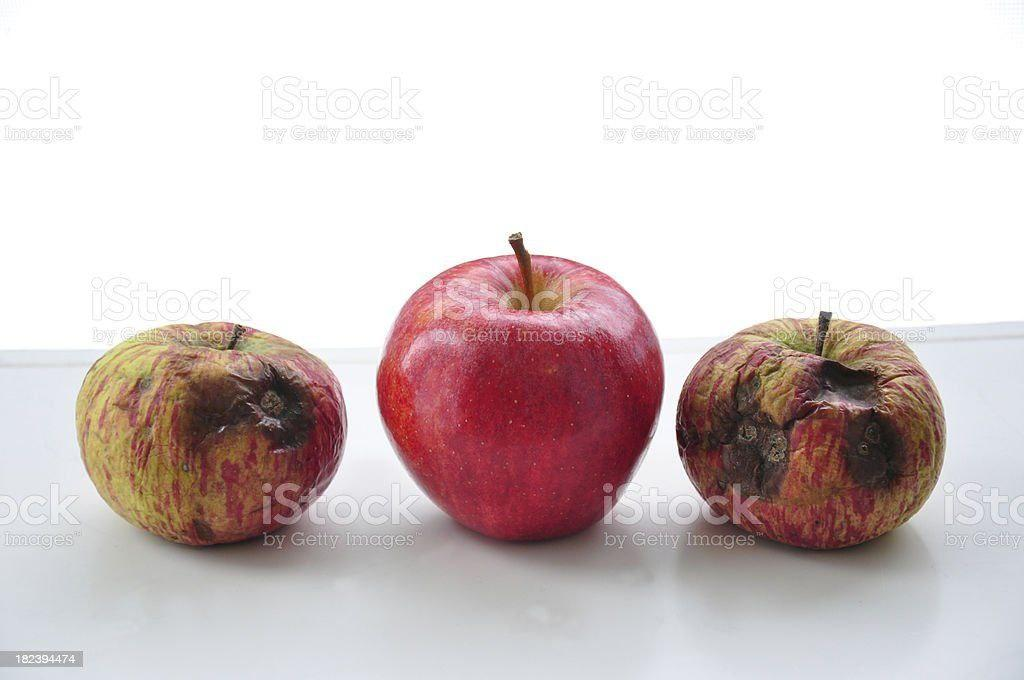Apple: (376, 255, 664, 546), (674, 316, 946, 551), (76, 321, 348, 549)
